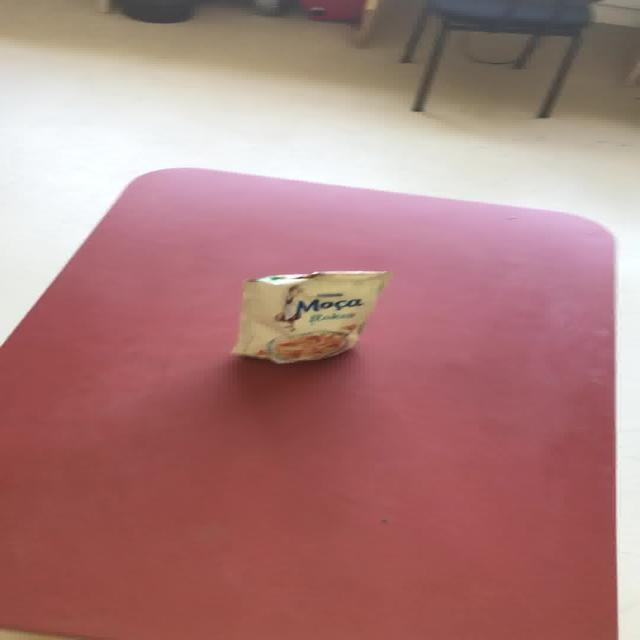corn flakes: (230, 269, 391, 364)
